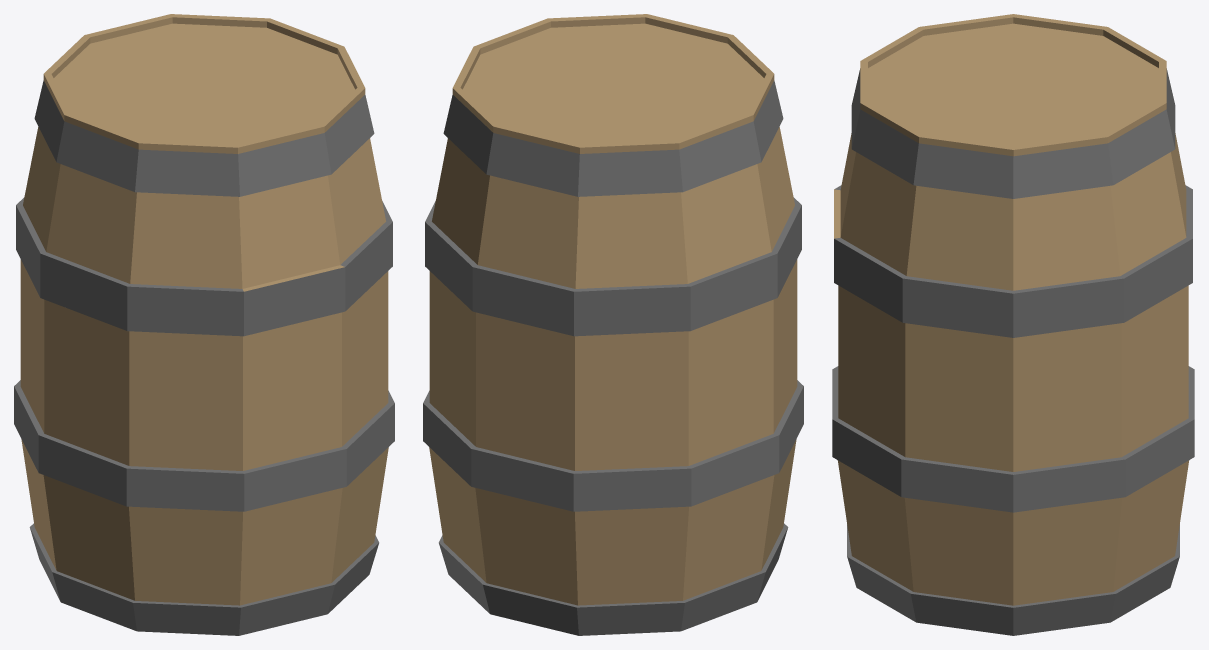
Rendered from SmashWordBarrel.fbx.
The picture shows the model from 3 angles, left to right: view 1: azimuth 30°, elevation 25°; view 2: azimuth 150°, elevation 25°; view 3: azimuth 270°, elevation 25°; orthographic projection.
Visible parts, largest first — view 1: Barrel; view 2: Barrel; view 3: Barrel.
Part boxes in pixels (<box>): Barrel: <box>14,14,394,635</box>; Barrel: <box>423,14,803,635</box>; Barrel: <box>832,14,1194,635</box>.
Size of the model in its own units: 23.46 by 32.88 by 22.31.
